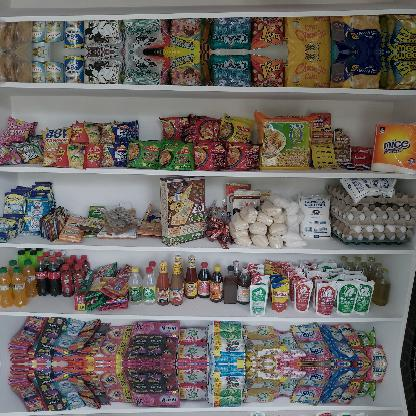Koko-Krunch: (159, 174, 207, 245)
